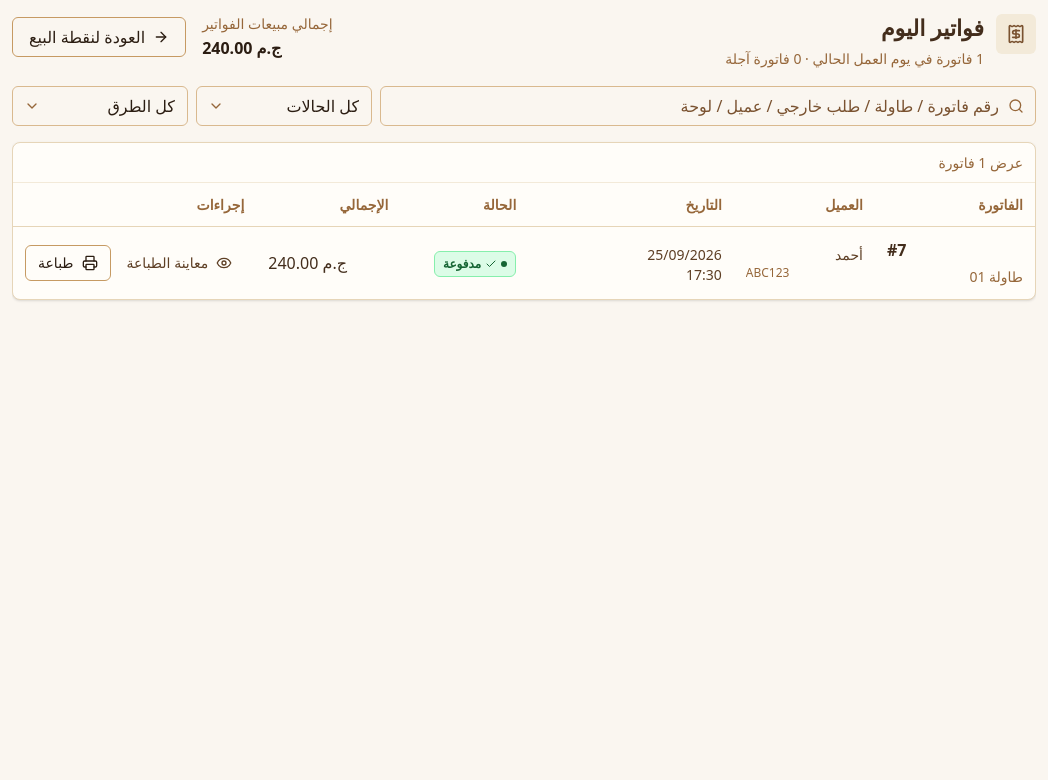
Test case: Today invoices page › reprints through the existing print command
The image size is (1048, 780).
Step 1. Click the button with aria-label "طباعة — #7" → [68, 263], box 25,245 -> 110,281
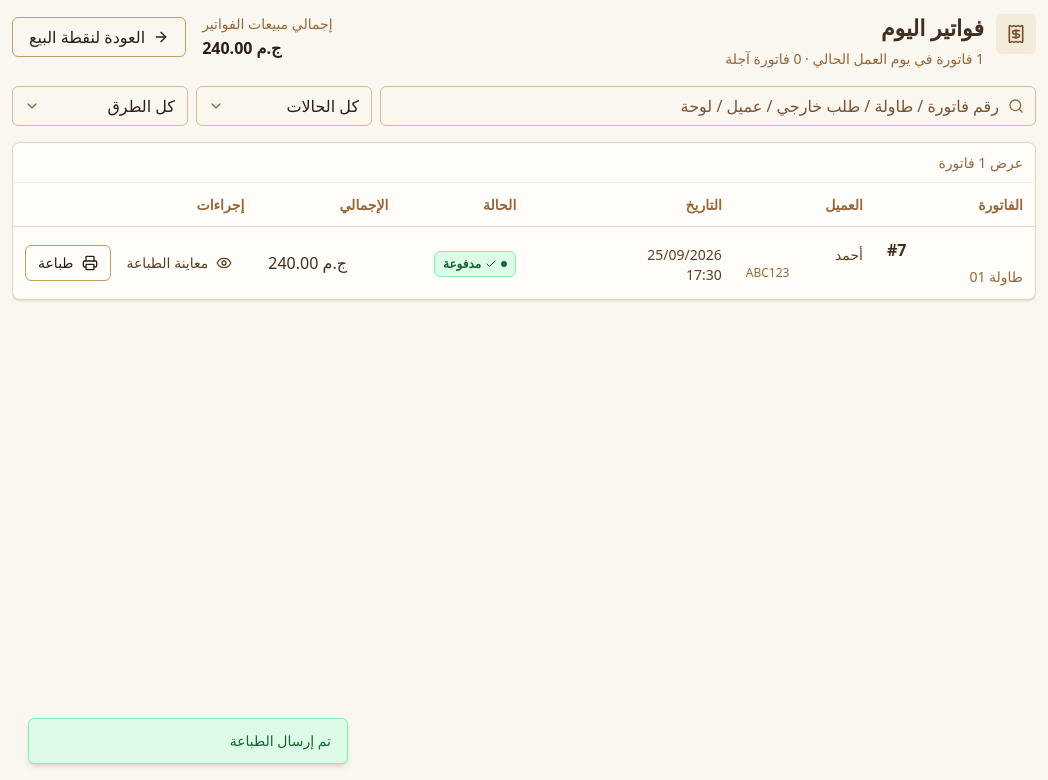
Check: the text "تم إرسال الطباعة" is shown, box 28,718 -> 348,764
